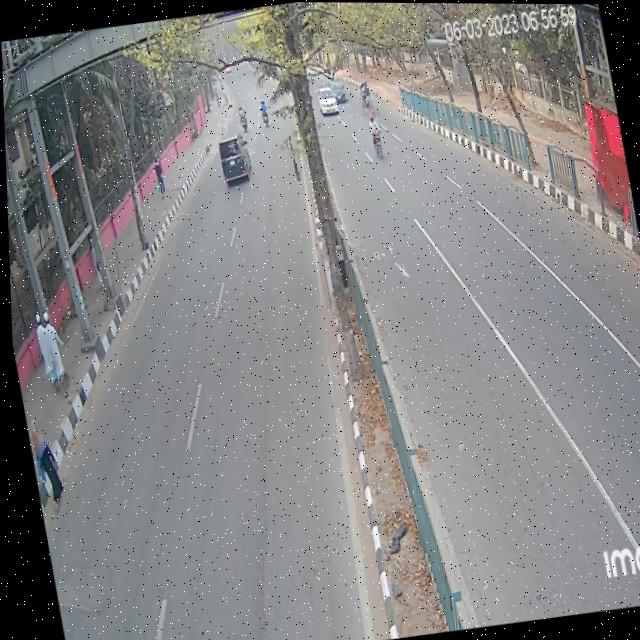rikshaw: (357, 79, 375, 119)
